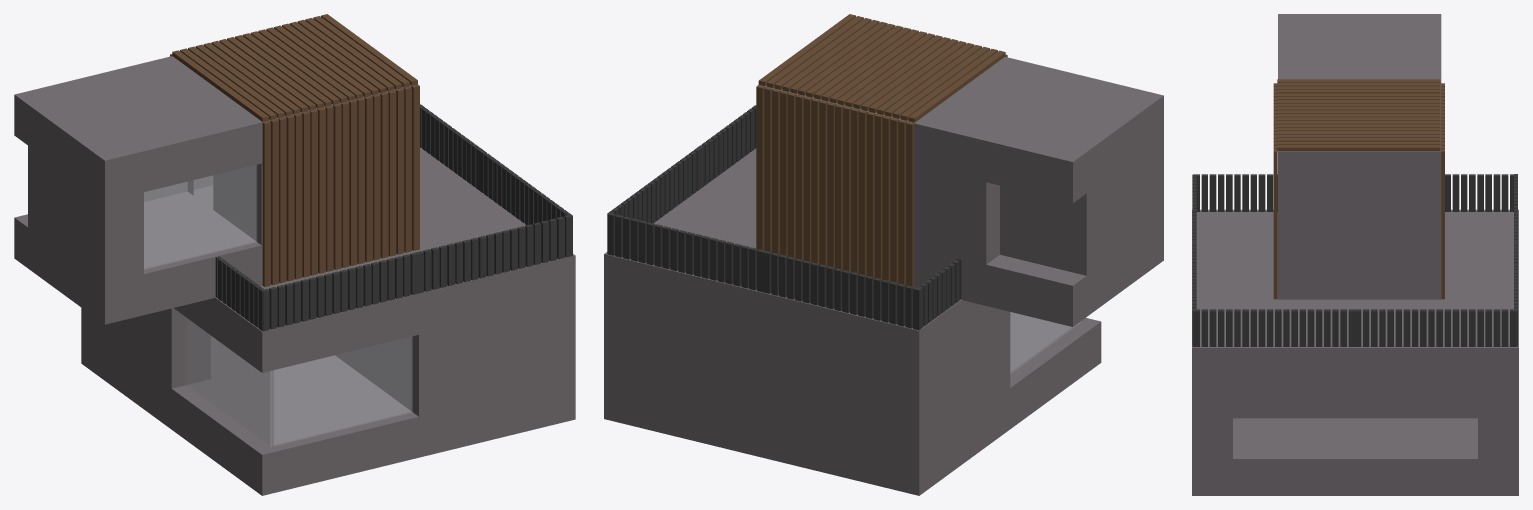
Rendered from home_3_center.glb.
3 views of the same model, side by side, from view 1: azimuth 30°, elevation 25°; view 2: azimuth 150°, elevation 25°; view 3: azimuth 270°, elevation 25° (orthographic). The views are drawn at different scales.
Parts seen in each view (by area): view 1: Module_Cube_2x2x1, Module_L_Shape.003, Module_Wood_Slats.001, Module_Wood_Slats.002, Module_L_Shape_Window.007, Module_L_Shape_Window.003, Module_Wood_railings.002, Module_Wood_railings.003, Module_L_Shape_Window.006, Module_Wood_railings.004, Module_Wood_railings.005, Module_Wood_railings.009; view 2: Module_Cube_2x2x1, Module_L_Shape.003, Module_Wood_Slats.003, Module_Wood_Slats.002, Module_Wood_railings.007, Module_Wood_railings.006, Module_Wood_railings.005, Module_Wood_railings.004, Module_L_Shape_Window.006, Module_Wood_railings.008; view 3: Module_Cube_2x2x1, Module_L_Shape.003, Module_Wood_Slats.002, Module_Wood_railings.005, Module_Wood_railings.004, Module_Wood_railings.009, Module_Wood_railings.008, Module_Wood_Slats.001, Module_Wood_Slats.003, Module_Wood_railings.003.
Boxes of the visible parts, x1,y1,x2,y2 form: Module_Cube_2x2x1: (81,147,575,495); Module_L_Shape.003: (14,56,411,324); Module_Wood_Slats.001: (262,84,419,286); Module_Wood_Slats.002: (172,14,417,121); Module_L_Shape_Window.007: (273,337,412,445); Module_L_Shape_Window.003: (144,165,256,269); Module_Wood_railings.002: (261,252,418,331); Module_Wood_railings.003: (416,214,572,293); Module_L_Shape_Window.006: (186,318,271,446); Module_Wood_railings.004: (479,150,572,255); Module_Wood_railings.005: (420,104,483,190); Module_Wood_railings.009: (215,256,264,331); Module_Cube_2x2x1: (604,148,1101,495); Module_L_Shape.003: (757,57,1163,326); Module_Wood_Slats.003: (756,85,914,287); Module_Wood_Slats.002: (758,14,1005,122); Module_Wood_railings.007: (763,251,921,330); Module_Wood_railings.006: (607,212,765,292); Module_Wood_railings.005: (607,148,700,223); Module_Wood_railings.004: (697,105,756,188); Module_L_Shape_Window.006: (1010,312,1080,372); Module_Wood_railings.008: (916,258,961,327); Module_Cube_2x2x1: (1192,209,1518,495); Module_L_Shape.003: (1278,14,1441,299); Module_Wood_Slats.002: (1277,79,1440,151); Module_Wood_railings.005: (1354,309,1516,346); Module_Wood_railings.004: (1193,309,1354,346); Module_Wood_railings.009: (1193,174,1277,211); Module_Wood_railings.008: (1445,174,1516,211); Module_Wood_Slats.001: (1273,83,1277,299); Module_Wood_Slats.003: (1441,83,1444,299); Module_Wood_railings.003: (1192,242,1196,346).
Bounding box in the file's own units: 5.4 × 4.05 × 4.
